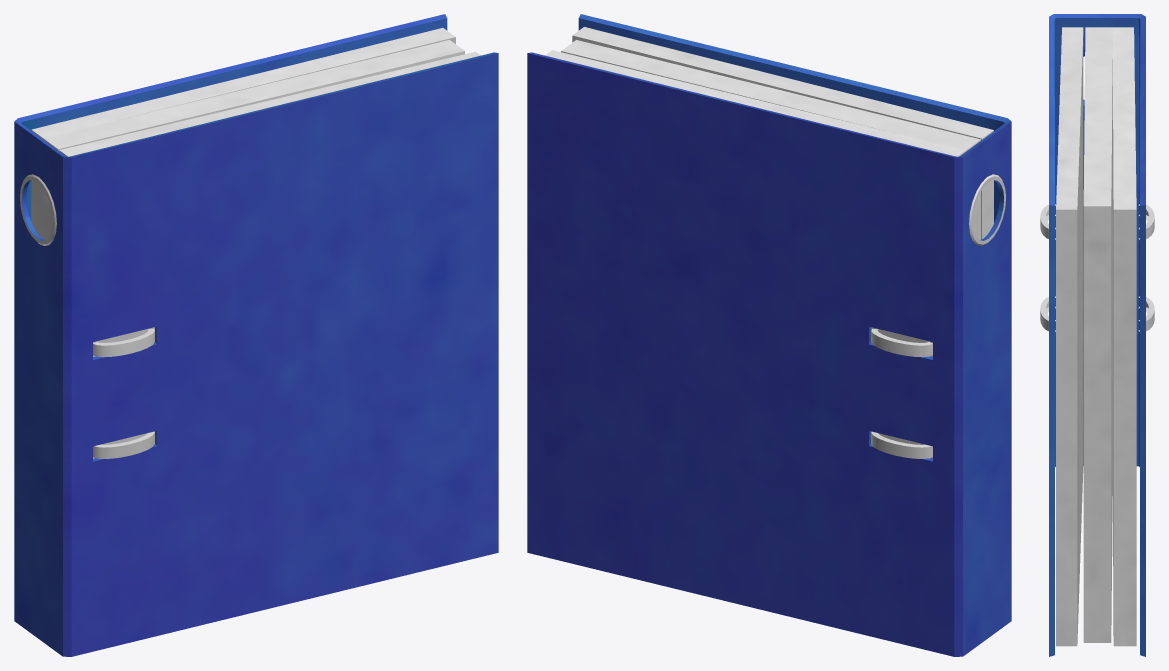
Rendered from folder blue.fbx.
The picture shows the model from 3 angles, left to right: view 1: azimuth 30°, elevation 25°; view 2: azimuth 150°, elevation 25°; view 3: azimuth 270°, elevation 25°; orthographic projection. The views are drawn at different scales.
Parts seen in each view (by area): view 1: folder_blue; view 2: folder_blue; view 3: folder_blue.
Boxes of the visible parts, <box> form: folder_blue: <box>14,14,498,656</box>; folder_blue: <box>527,14,1011,656</box>; folder_blue: <box>1040,14,1154,656</box>.
Bounding box in the file's own units: 30.46 × 33.46 × 7.69.
